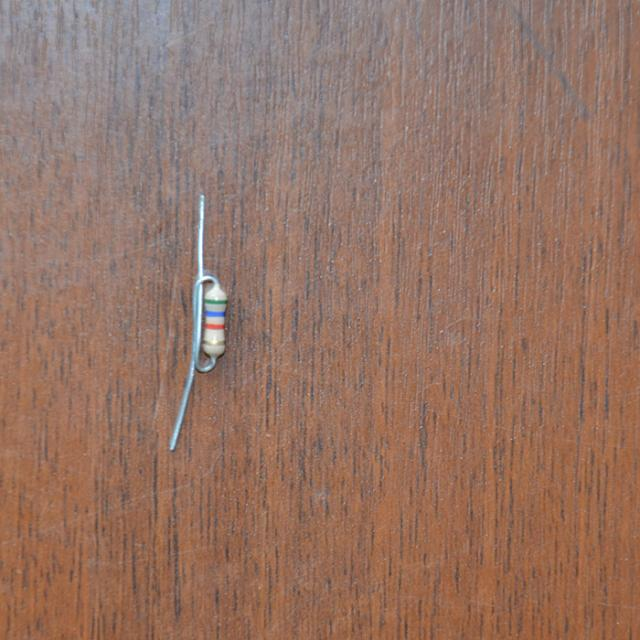blue: (206, 311, 224, 317)
gold: (204, 339, 224, 345)
green: (204, 299, 226, 304)
red: (205, 323, 224, 329)
resistor: (199, 280, 233, 362)
